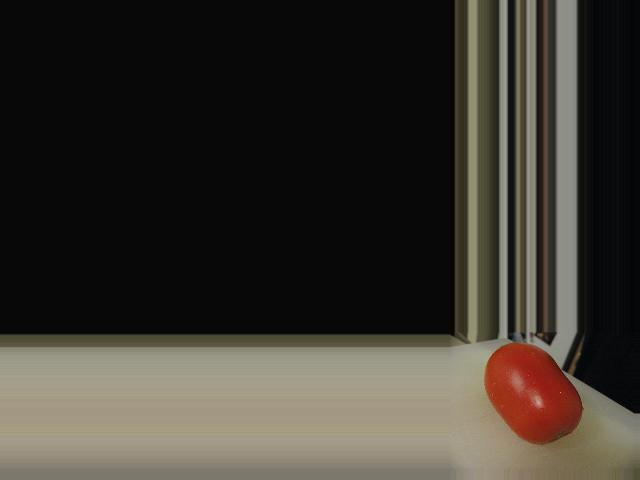tomato: (484, 342, 582, 444)
